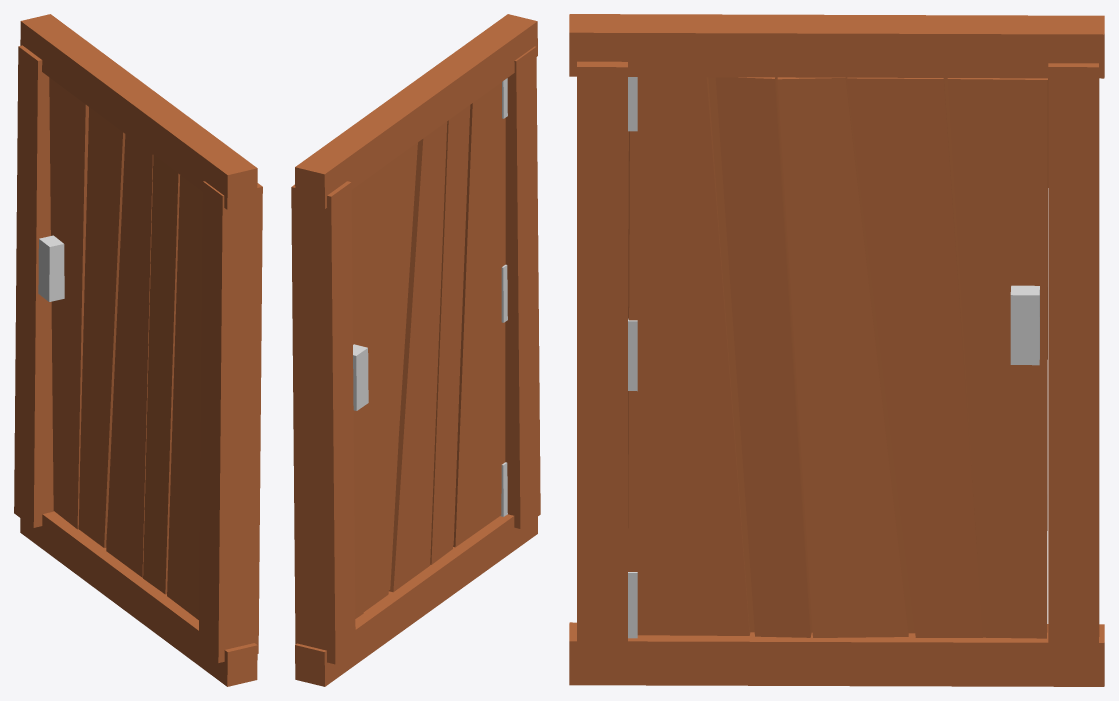
3 views of the same model, side by side, from view 1: azimuth 30°, elevation 25°; view 2: azimuth 150°, elevation 25°; view 3: azimuth 270°, elevation 25° (orthographic). The views are drawn at different scales.
Visible parts, largest first — view 1: Door Frame.001; view 2: Door Frame.001; view 3: Door Frame.001.
Boxes of the visible parts, x1,y1,x2,y2 form: Door Frame.001: (14,14,262,686); Door Frame.001: (291,14,540,686); Door Frame.001: (569,14,1104,686).
Size of the model in its own units: 13.8 by 129 by 96.15.
